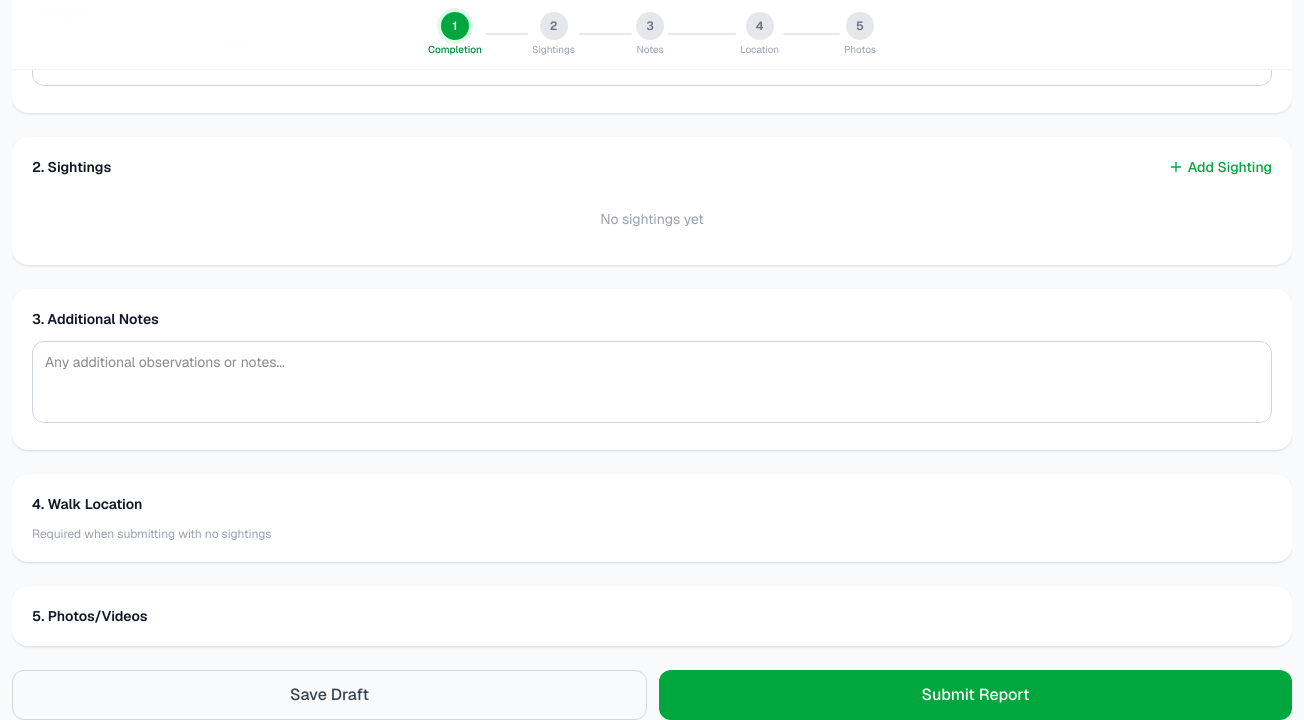
Test case: keeps warning when the server rejects an otherwise locally saved revision
The width and height of the screenshot is (1304, 720).
(page scrolled)
Type "local only" into the text box with placeholder "Any additional observations or notes..." at x=652, y=382, box [32, 340, 1272, 422]
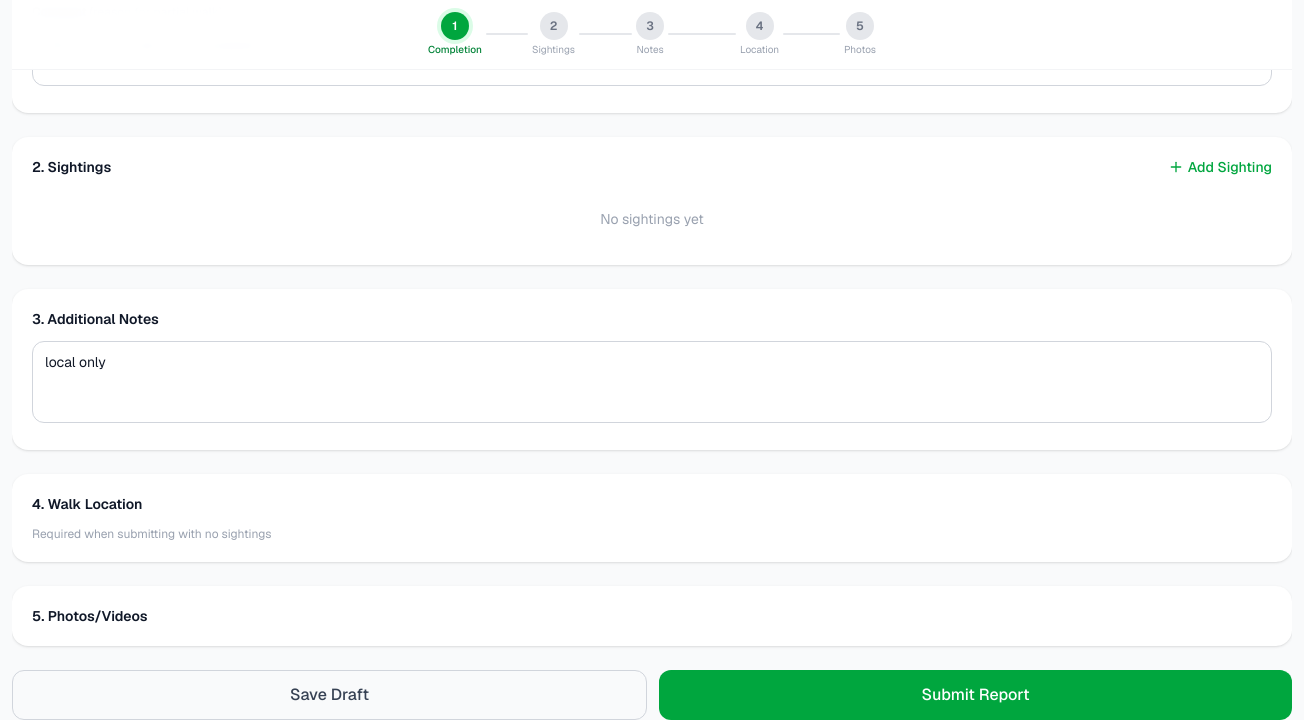
Click the button "Save Draft" at x=330, y=694, box [12, 670, 647, 719]
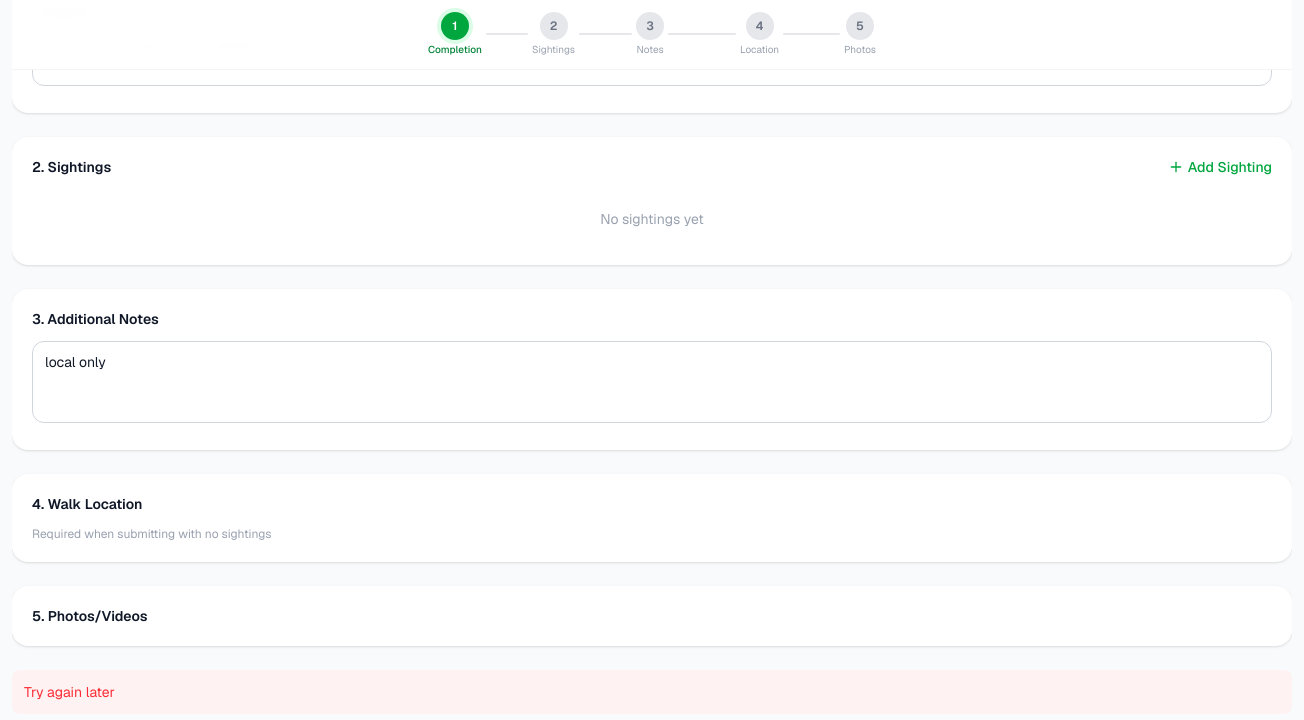
Check: the text "Try again later" is shown, box [12, 670, 1292, 714]
